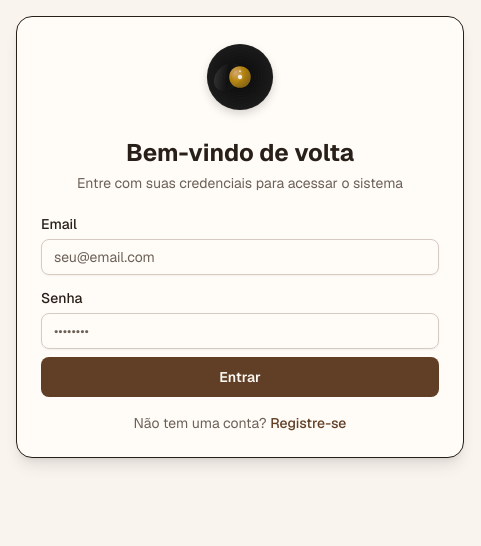
Test case: LoginPage › exibe erro com credenciais inválidas › should show generic error on unexpected failure
In the field labelled "Email": (240, 257) [41,239,439,275], type "test@test.com"
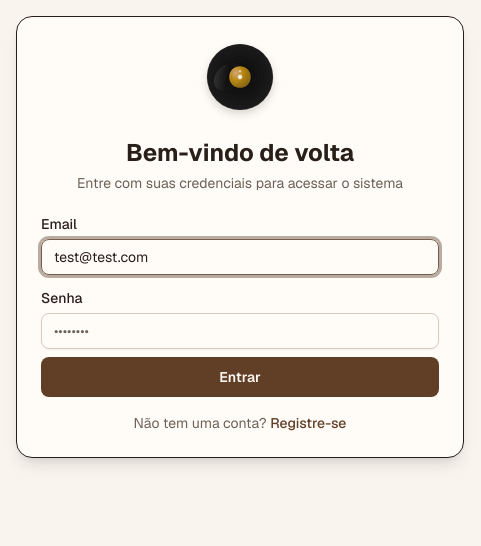
In the password field labelled "Senha": (240, 331) [41,313,439,349], type "password123"
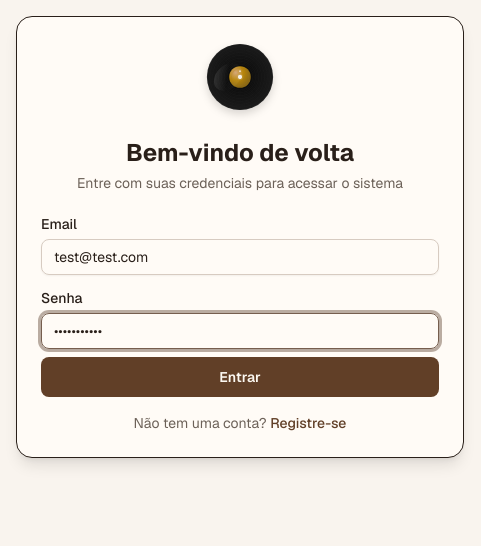
Click the button "Entrar": (240, 377) [41,357,439,397]
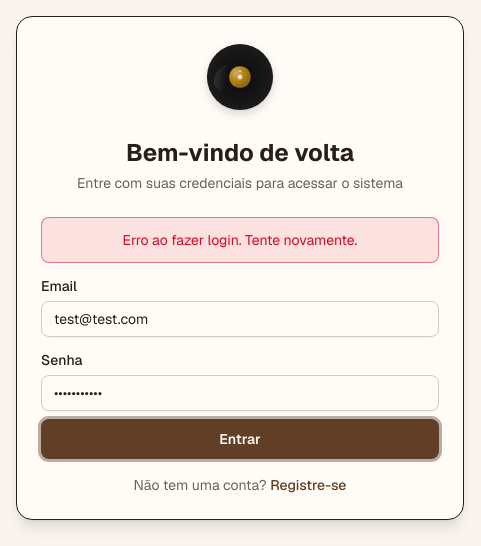
Check: the text "Erro ao fazer login. Tente novamente." is shown, box [41,217,439,263]
